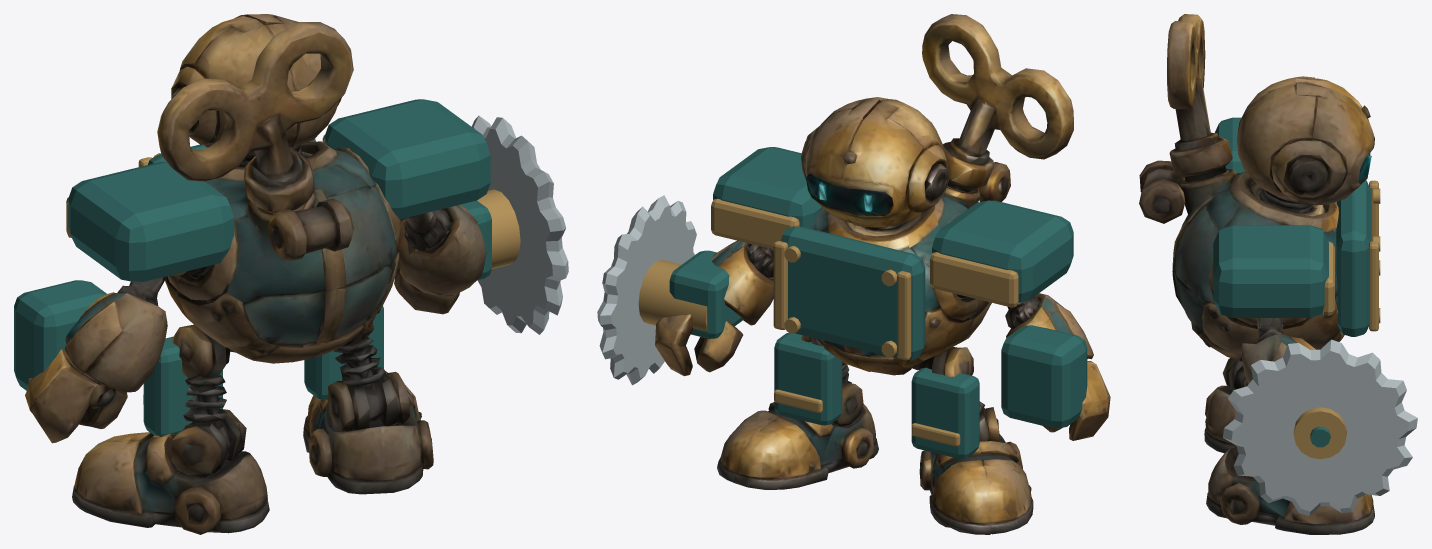
File: automaton_b_parts.glb
3 renders of one model, left to right at view 1: azimuth 30°, elevation 25°; view 2: azimuth 150°, elevation 25°; view 3: azimuth 270°, elevation 25°, orthographic. The views are drawn at different scales.
Visible parts, largest first — view 1: part_000, part_006, node_shoulder_R, part_003, node_shoulder_L, part_004, node_blade, part_005, part_002, part_008_R, part_001, part_008_L (+6 smaller); view 2: node_chest, part_002, part_006, node_shoulder_R, part_005, node_blade, part_000, part_003, node_shoulder_L, node_wrist_guard, part_001, node_blade_mount (+7 smaller); view 3: node_blade, part_002, part_000, node_shoulder_L, part_006, node_chest, part_005, part_003, part_001, node_shoulder_R, part_008_R, part_009.
Part boxes in pixels (box(x1,y1,x2,y2)): part_000: box(165, 141, 401, 363); part_006: box(157, 22, 353, 261); node_shoulder_R: box(66, 162, 234, 282); part_003: box(72, 432, 269, 534); node_shoulder_L: box(322, 99, 490, 219); part_004: box(25, 292, 167, 443); node_blade: box(471, 115, 568, 334); part_005: box(303, 371, 433, 494); part_002: box(171, 14, 341, 154); part_008_R: box(171, 324, 246, 477); part_001: box(394, 204, 486, 314); part_008_L: box(328, 322, 409, 430); node_chest: box(773, 226, 925, 360); part_002: box(801, 97, 949, 227); part_006: box(922, 14, 1073, 201); node_shoulder_R: box(930, 200, 1073, 307); part_005: box(717, 402, 878, 489); node_blade: box(597, 195, 696, 385); part_000: box(810, 186, 991, 375); part_003: box(919, 434, 1033, 534); node_shoulder_L: box(711, 147, 821, 249); node_wrist_guard: box(1001, 325, 1087, 428); part_001: box(655, 240, 773, 376); node_blade_mount: box(638, 250, 743, 338); node_blade: box(1222, 339, 1417, 516); part_002: box(1236, 76, 1374, 205); part_000: box(1172, 168, 1344, 361); node_shoulder_L: box(1213, 225, 1334, 317); part_006: box(1139, 14, 1232, 223); node_chest: box(1336, 180, 1380, 336); part_005: box(1206, 447, 1374, 534); part_003: box(1204, 385, 1235, 453); part_001: box(1241, 335, 1316, 384); node_shoulder_R: box(1215, 117, 1245, 173); part_008_R: box(1222, 358, 1247, 390); part_009: box(1256, 318, 1285, 342).
Size of the model in its own units: 0.9382 by 0.8505 by 0.4941.
Materials: 4 (1 with a texture image).
